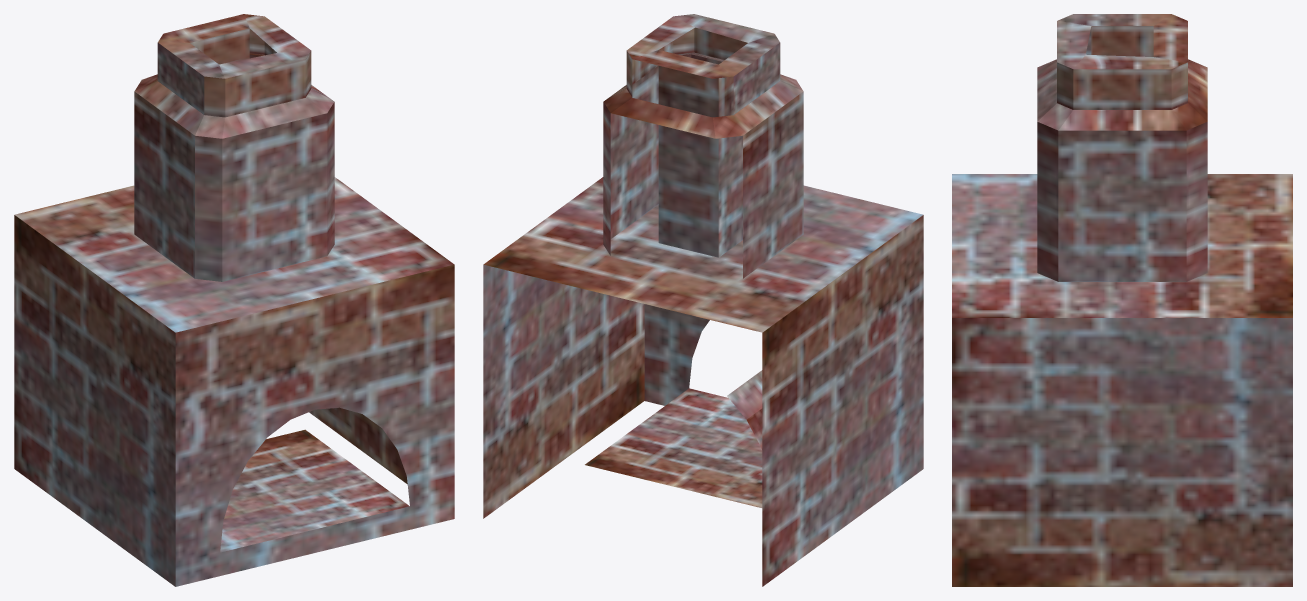
The model's file is BreadIndustry.fbx.
The picture shows the model from 3 angles, left to right: view 1: azimuth 30°, elevation 25°; view 2: azimuth 150°, elevation 25°; view 3: azimuth 270°, elevation 25°; orthographic projection. The views are drawn at different scales.
Visible parts, largest first — view 1: Cube.002; view 2: Cube.002; view 3: Cube.002.
Boxes of the visible parts, x1=… form: Cube.002: x1=14, y1=14, x2=454, y2=586; Cube.002: x1=483, y1=14, x2=923, y2=586; Cube.002: x1=952, y1=14, x2=1292, y2=586.
Bounding box in the file's own units: 200 × 306 × 200.
